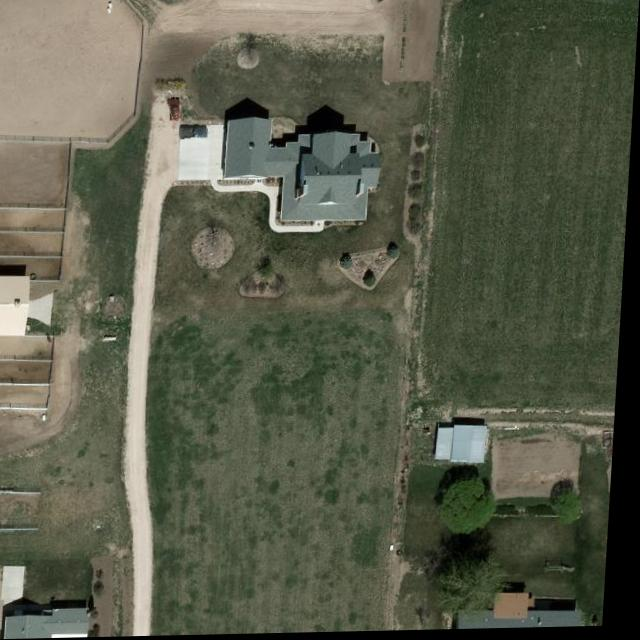vehicle: (181, 127, 210, 140), (168, 97, 183, 122)
